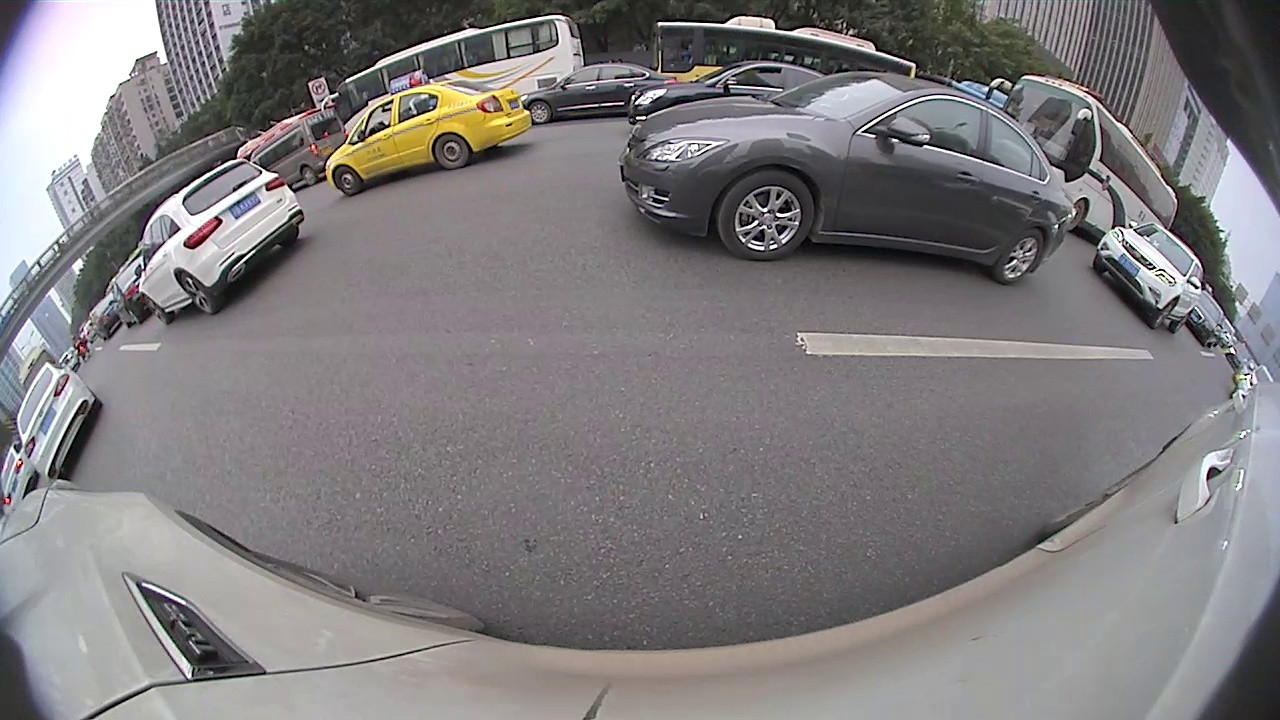bus: (981, 69, 1183, 238), (325, 13, 583, 114), (657, 10, 913, 95), (17, 341, 61, 382)
car: (622, 68, 1081, 284), (137, 156, 306, 326), (326, 74, 530, 199), (1091, 219, 1206, 336), (628, 62, 838, 123), (13, 361, 104, 478), (521, 62, 678, 127), (251, 101, 345, 189), (107, 250, 159, 329), (0, 447, 40, 511), (1186, 290, 1226, 352), (1234, 354, 1273, 404), (88, 293, 127, 341)
front: (717, 169, 812, 260), (1149, 296, 1180, 327), (143, 293, 172, 322), (334, 166, 359, 195), (1064, 199, 1088, 229), (527, 101, 551, 125)
rear: (993, 230, 1043, 285), (178, 269, 219, 313), (435, 133, 468, 168), (1168, 309, 1193, 333), (301, 165, 316, 185)
